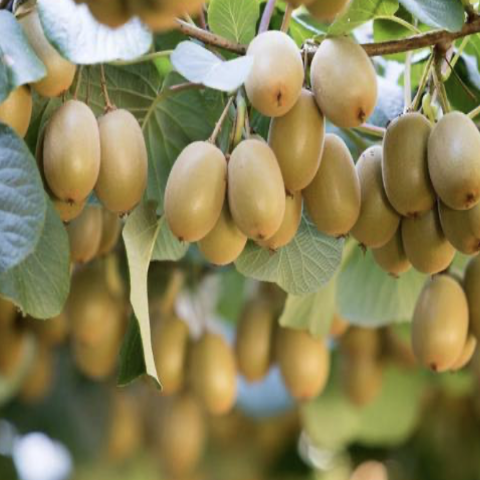kiwi: (376, 101, 451, 238), (162, 114, 234, 254), (84, 98, 157, 218), (309, 31, 384, 138), (215, 128, 286, 238), (409, 265, 474, 378), (42, 93, 100, 214)
